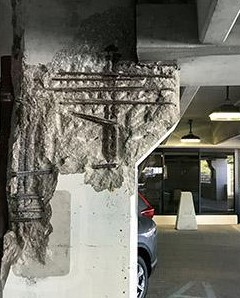Exposed reinforcement: (101, 43, 120, 163), (59, 96, 177, 107), (16, 130, 25, 250), (56, 70, 174, 78), (71, 110, 120, 127), (46, 86, 175, 92), (50, 76, 143, 81), (9, 170, 52, 178), (5, 192, 41, 201), (12, 205, 44, 214), (8, 216, 45, 222), (92, 162, 118, 170)
Spalling: (52, 1, 179, 193), (1, 62, 53, 298)
